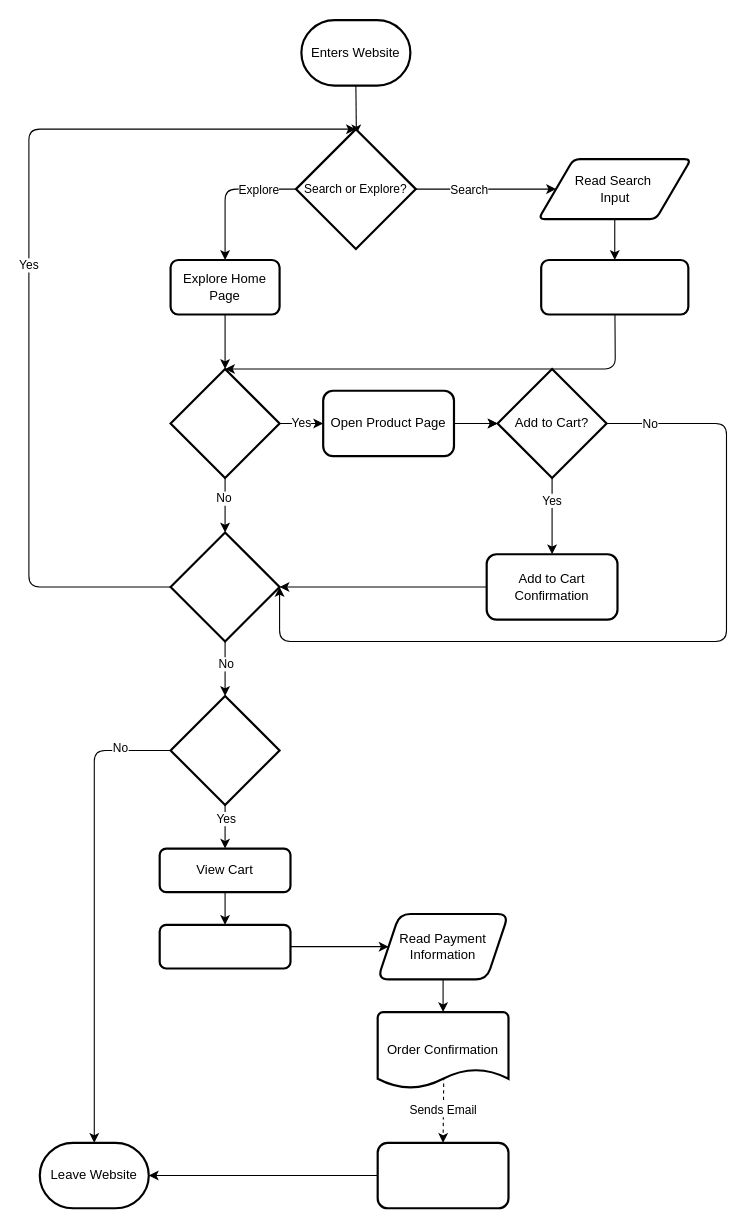
The diagram is 754 pixels wide and 1227 high, and some of its shapes have lost their labels. The shapes that lost their labels are listed below. From the top down, each one's centre as x and y in pixels, then its label:
At point (614, 286): "System Queries Search and Displays Results".
At point (224, 423): "View Product Page?".
At point (224, 586): "Continue Shopping?".
At point (224, 750): "Checkout?".
At point (224, 946): "View Payment".
At point (442, 1175): "Email Confirmation".
